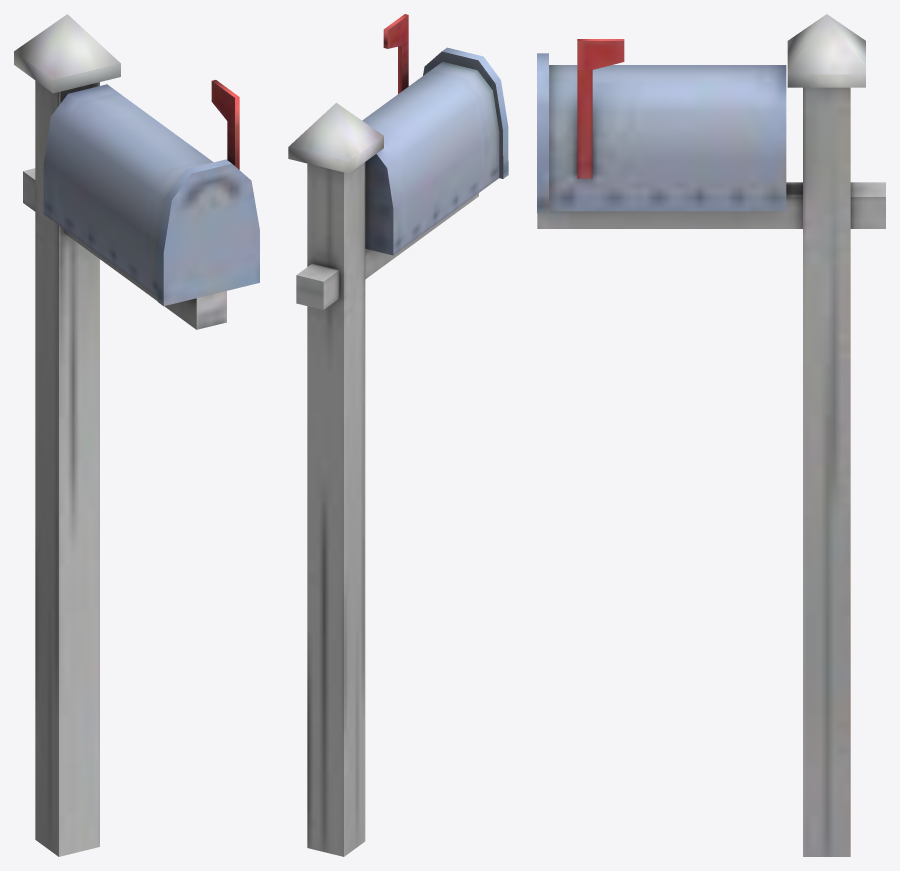
The model's file is Mailbox1.fbx.
3 renders of one model, left to right at view 1: azimuth 30°, elevation 25°; view 2: azimuth 150°, elevation 25°; view 3: azimuth 270°, elevation 25°, orthographic. The views are drawn at different scales.
Visible parts, largest first — view 1: MailBox1; view 2: MailBox1; view 3: MailBox1.
Boxes of the visible parts, x1,y1,x2,y2 form: MailBox1: [14, 14, 259, 856]; MailBox1: [288, 14, 508, 856]; MailBox1: [537, 14, 885, 856].
Size of the model in its own units: 0.1762 by 1.45 by 0.5502.
